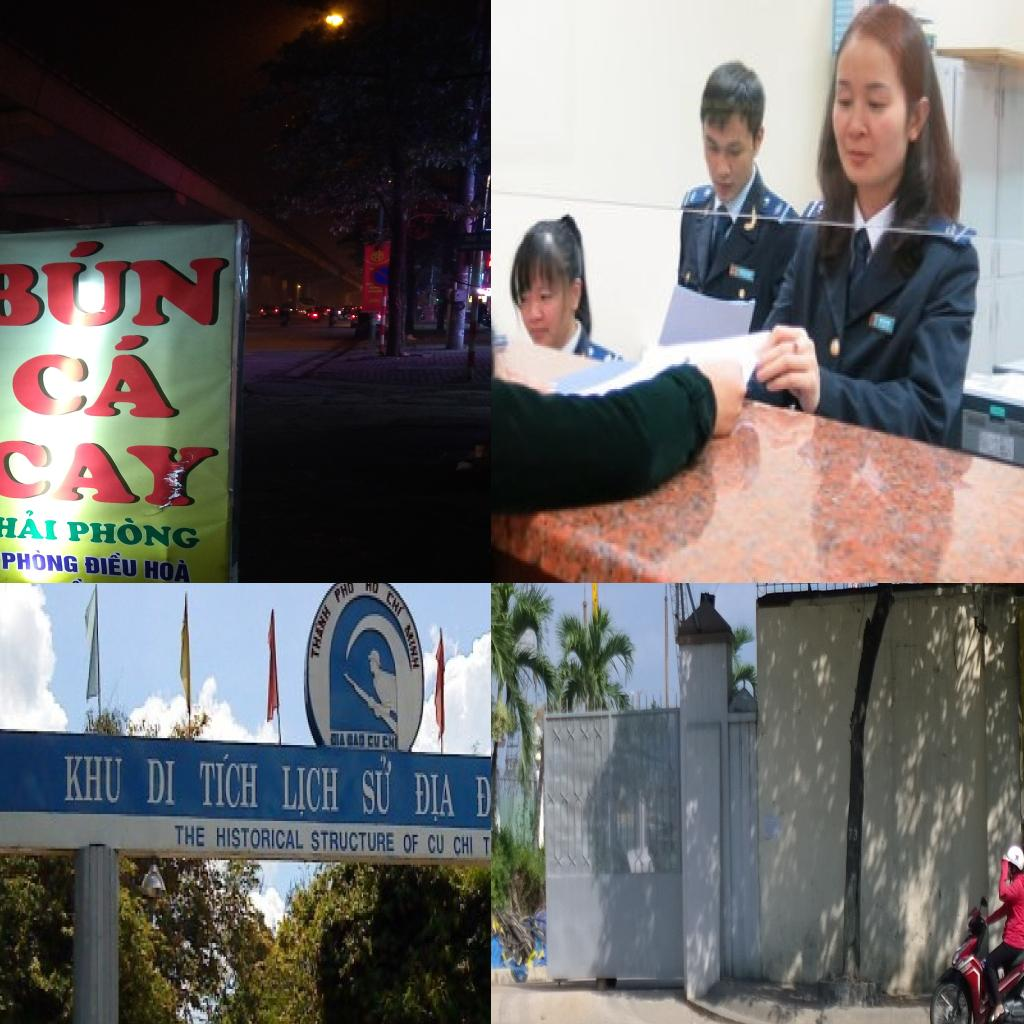text: (0, 232, 233, 332), (0, 434, 226, 511), (7, 332, 186, 424), (64, 516, 203, 552), (199, 752, 261, 812), (281, 761, 341, 821), (62, 754, 125, 805), (413, 770, 458, 826), (214, 826, 306, 853), (310, 828, 396, 855), (0, 547, 81, 575), (0, 505, 59, 543), (362, 754, 395, 819), (306, 598, 334, 664), (81, 550, 140, 580), (146, 756, 178, 810), (141, 556, 194, 583), (402, 618, 424, 672), (173, 823, 207, 851), (474, 773, 491, 828), (384, 584, 408, 621), (452, 833, 474, 860), (331, 583, 356, 606), (54, 575, 117, 583), (427, 832, 446, 858), (402, 832, 420, 858), (346, 731, 367, 752), (330, 731, 348, 750), (381, 733, 399, 752), (367, 731, 382, 752), (364, 583, 382, 598), (848, 825, 859, 845)
